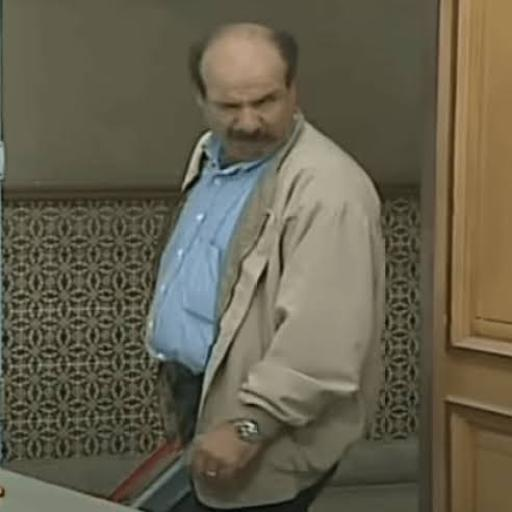beji_matrix: (189, 23, 298, 163)
